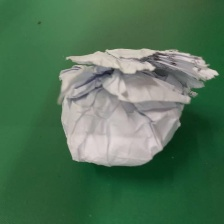Paper: (59, 48, 218, 167)
